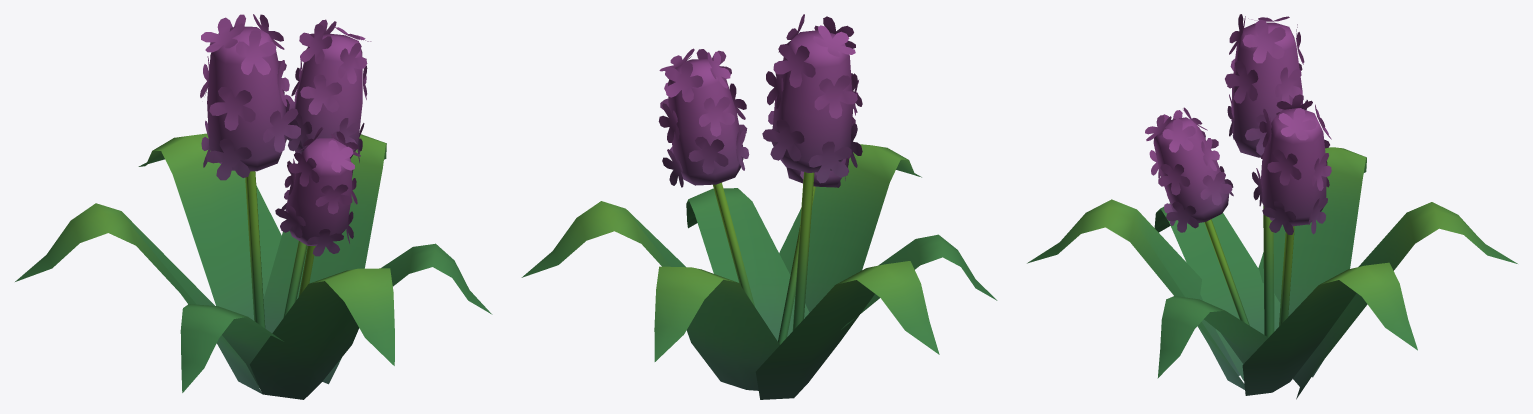
Rendered from Flower_026.fbx.
The picture shows the model from 3 angles, left to right: view 1: azimuth 30°, elevation 25°; view 2: azimuth 150°, elevation 25°; view 3: azimuth 270°, elevation 25°; orthographic projection. The views are drawn at different scales.
Visible parts, largest first — view 1: Flower.026; view 2: Flower.026; view 3: Flower.026.
Part boxes in pixels (<box>): Flower.026: <box>15,14,492,399</box>; Flower.026: <box>521,14,997,399</box>; Flower.026: <box>1027,14,1517,399</box>.
Bounding box in the file's own units: 2.99 × 2.71 × 3.46.
